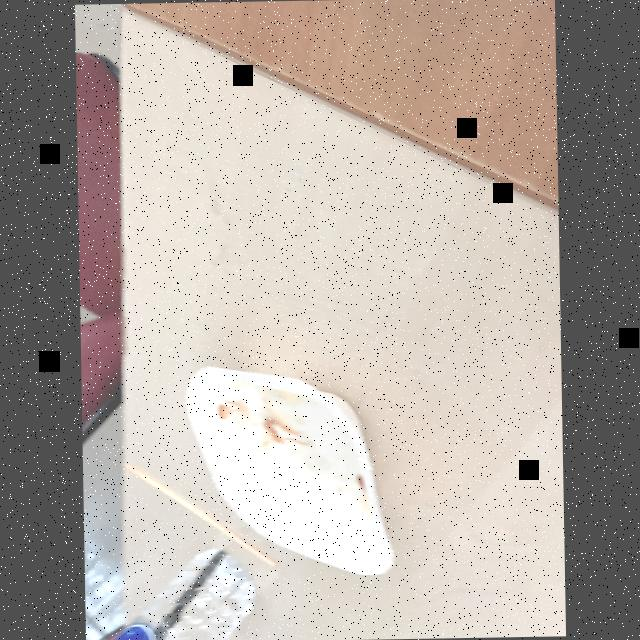cardboard_bowl: (176, 354, 413, 584)
stick: (115, 452, 278, 572)
